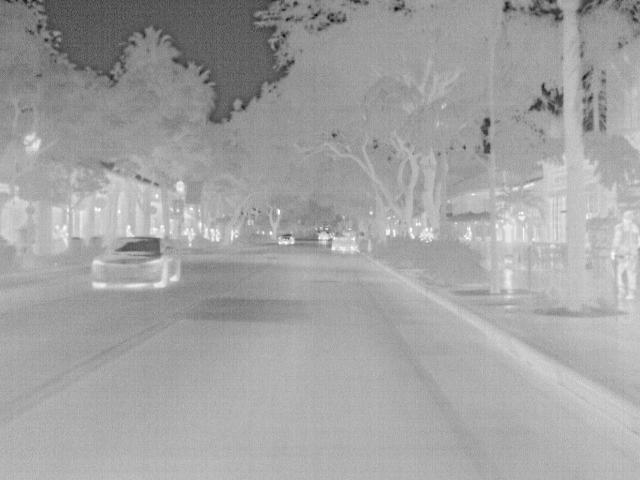car: (89, 236, 185, 292), (330, 230, 358, 252), (276, 232, 297, 248), (316, 229, 331, 242)
person: (608, 211, 637, 303), (58, 222, 72, 247), (461, 223, 474, 244), (123, 223, 137, 240)
